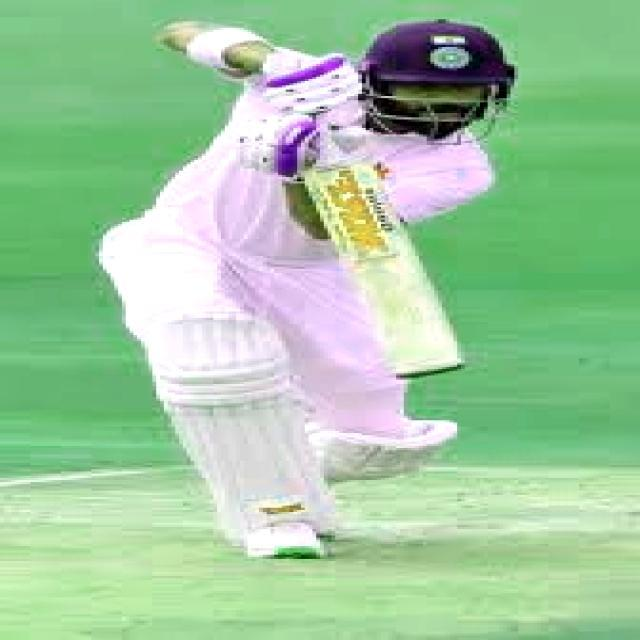bat: (311, 155, 468, 390)
toe: (396, 360, 460, 381)
